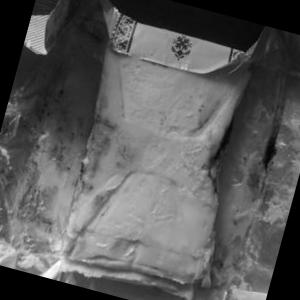butter: (35, 1, 290, 300)
